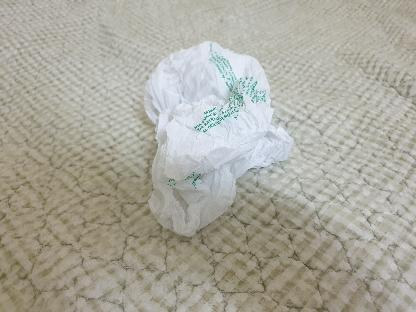Plastic Bag: (142, 44, 292, 236)
